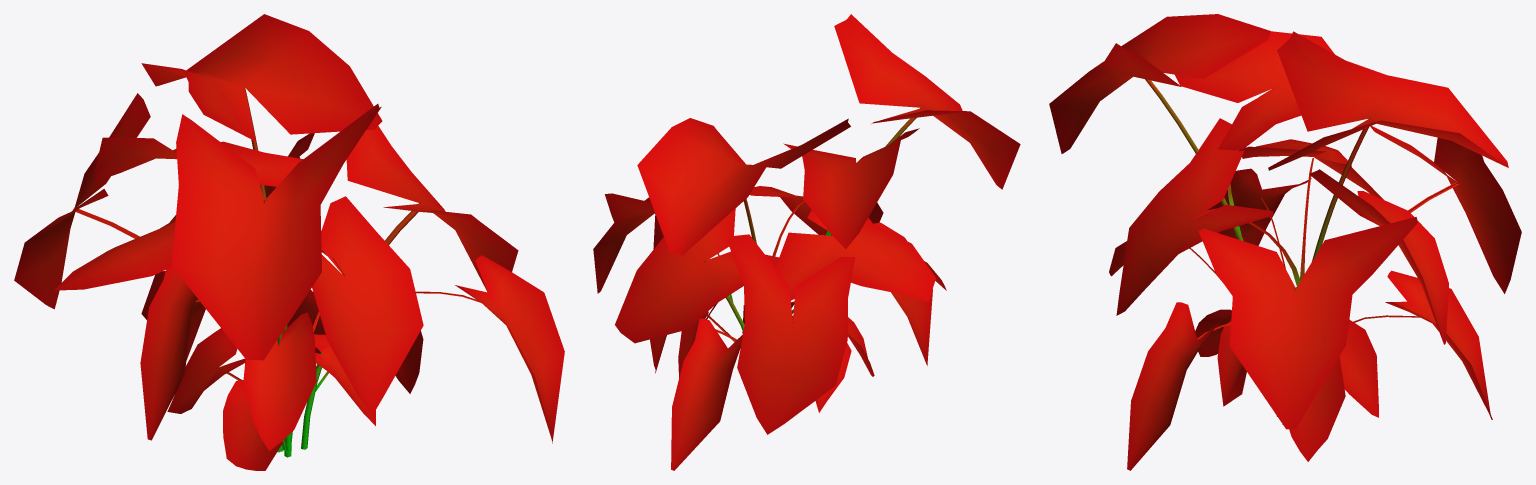
Rendered from Arrowhead Plant_LOD1_Var3_sjsmD.fbx.
The picture shows the model from 3 angles, left to right: view 1: azimuth 30°, elevation 25°; view 2: azimuth 150°, elevation 25°; view 3: azimuth 270°, elevation 25°; orthographic projection. The views are drawn at different scales.
Parts seen in each view (by area): view 1: _233a_Var3_LOD1; view 2: _233a_Var3_LOD1; view 3: _233a_Var3_LOD1.
Boxes of the visible parts, left/top/right/bottom form: _233a_Var3_LOD1: left=14, top=14, right=564, bottom=470; _233a_Var3_LOD1: left=593, top=14, right=1020, bottom=470; _233a_Var3_LOD1: left=1049, top=14, right=1521, bottom=470.
Bounding box in the file's own units: 48.8 × 45.58 × 52.04.
